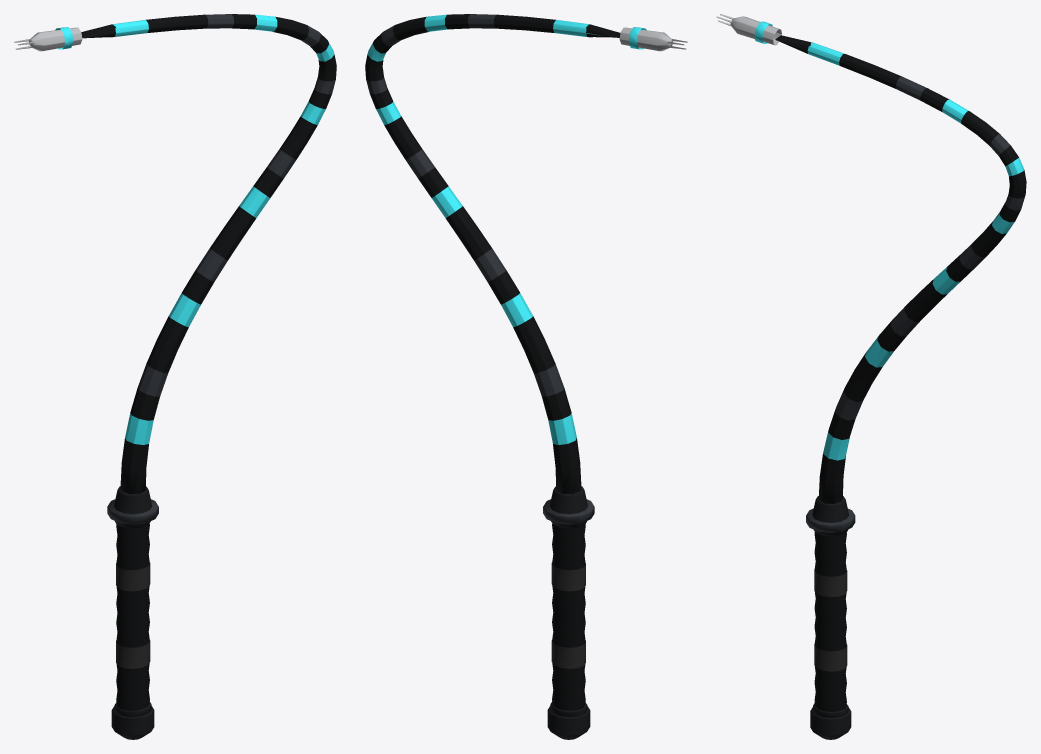
Rendered from gear_neon_whip.glb.
3 views of the same model, side by side, from view 1: azimuth 30°, elevation 25°; view 2: azimuth 150°, elevation 25°; view 3: azimuth 330°, elevation 25° (orthographic). The views are drawn at different scales.
Visible parts, largest first — view 1: gear_neon_whip; view 2: gear_neon_whip; view 3: gear_neon_whip.
Boxes of the visible parts, bbox=[...] form: gear_neon_whip: bbox=[14, 14, 336, 739]; gear_neon_whip: bbox=[365, 14, 687, 739]; gear_neon_whip: bbox=[716, 14, 1026, 739].
Size of the model in its own units: 0.3806 by 0.8242 by 0.053.
